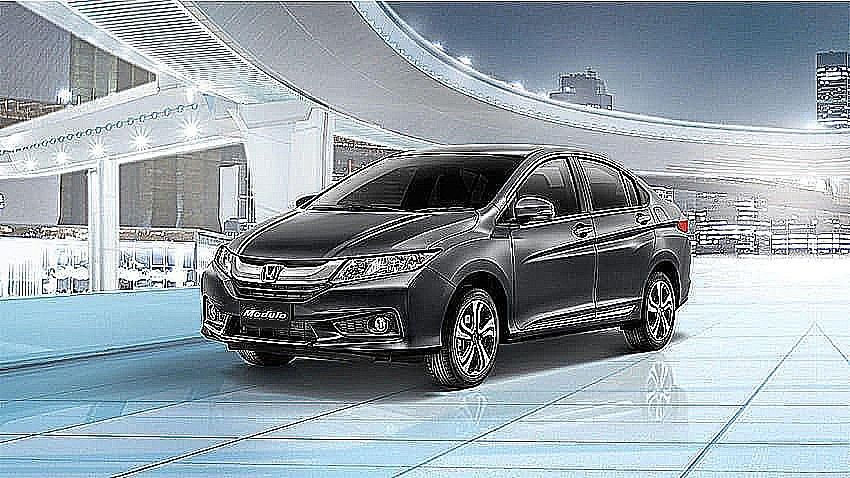Car hood: (225, 206, 478, 265)
Fender - -F-L-: (415, 202, 518, 340)
Fender - -R-L-: (640, 172, 693, 298)
Front bumper: (198, 262, 458, 360)
Headlight - -L-: (329, 246, 441, 288)
Headlight - -R-: (212, 243, 236, 281)
Passenger-s door - -F-L-: (505, 142, 603, 348)
Passenger-s door - -R-L-: (565, 138, 660, 347)
Rear bumper: (673, 237, 694, 312)
Rear light - -L-: (676, 208, 693, 237)
Side bumper - -L-: (497, 299, 645, 359)
Side mirror - -L-: (502, 194, 557, 236)
